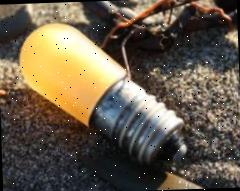lightbulb: (17, 16, 187, 170)
